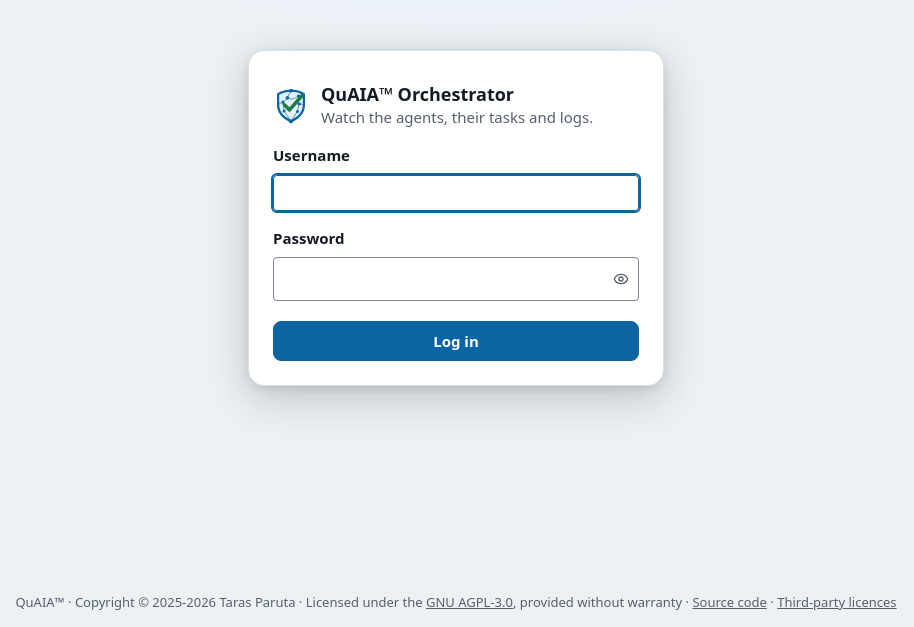
Test: App › says why a login failed
The image size is (914, 627).
Type "ops" into the field labelled "Username". click: [456, 193]
box: [273, 175, 639, 211]
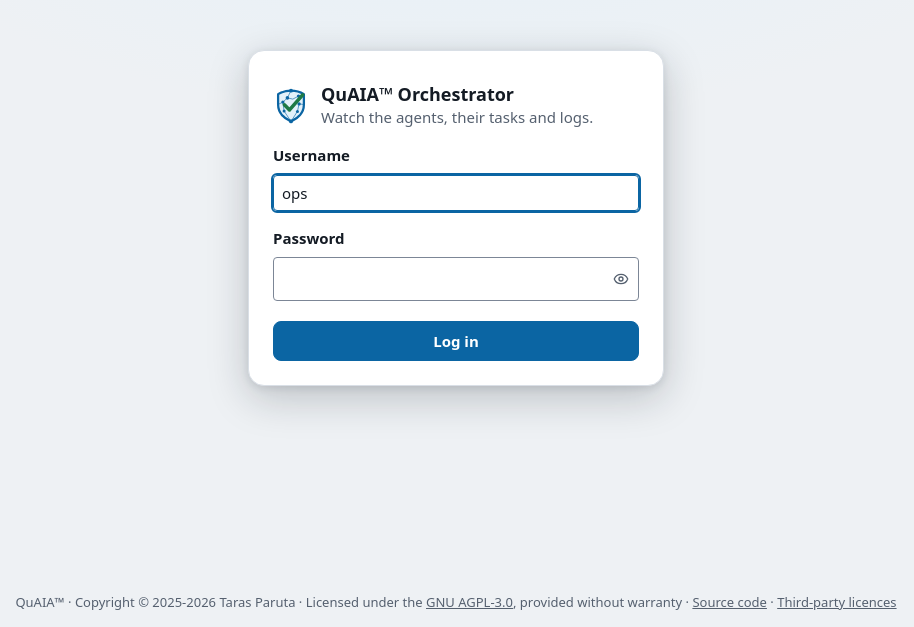
Type "secret" into the password field labelled "Password". click: [456, 279]
box: [273, 257, 639, 301]
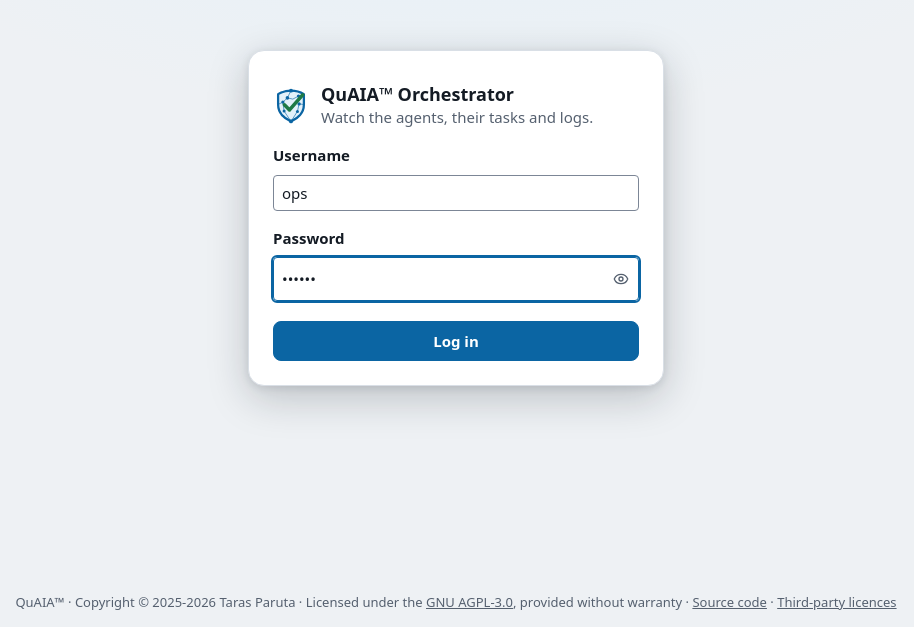
Click the button "Log in". click: [456, 341]
box: [273, 321, 639, 361]
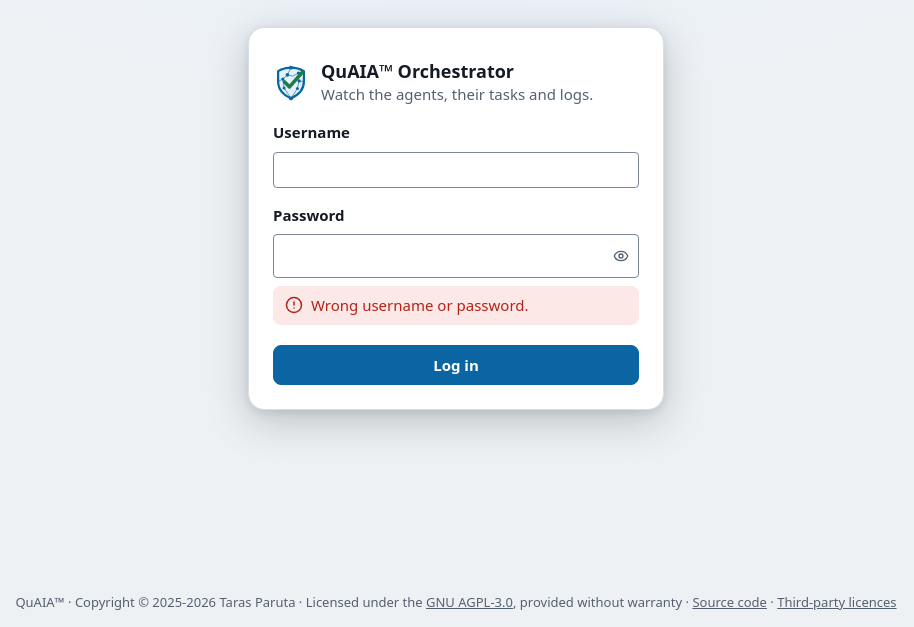
Expected: the message reads "Wrong username or password.", [311, 295, 528, 315]
